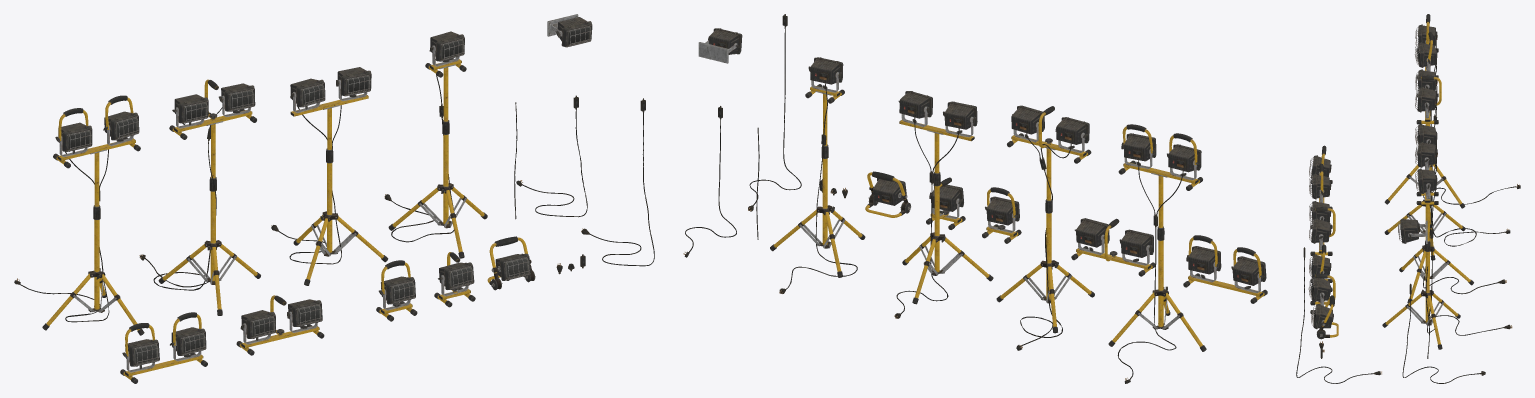
File: flood_lights_1k.glb
3 views of the same model, side by side, from view 1: azimuth 30°, elevation 25°; view 2: azimuth 150°, elevation 25°; view 3: azimuth 270°, elevation 25° (orthographic). The views are drawn at different scales.
Parts seen in each view (by area): view 1: flood_lights_standing_double_c_stand, flood_lights_standing_single_stand, flood_lights_standing_double_b_stand, flood_lights_standing_double_a_stand, flood_lights_wall_light, flood_lights_standing_double_c_light_02, flood_lights_standing_double_b_light_01, flood_lights_standing_single_light, flood_lights_standing_double_a_bar, flood_lights_standing_double_b_light_02, flood_lights_floor_double_b_light_01, flood_lights_standing_double_c_light_01 (+12 smaller); view 2: flood_lights_standing_single_stand, flood_lights_standing_double_c_stand, flood_lights_standing_double_b_stand, flood_lights_standing_double_a_stand, flood_lights_standing_double_a_bar, flood_lights_standing_double_c_light_01, flood_lights_floor_double_b_light_01, flood_lights_standing_double_b_light_01, flood_lights_floor_double_a_light_01, flood_lights_standing_single_light, flood_lights_standing_double_c_light_02, flood_lights_floor_double_b_light_02 (+17 smaller); view 3: flood_lights_standing_single_stand, flood_lights_standing_double_c_stand, flood_lights_standing_double_b_stand, flood_lights_standing_double_b_light_02, flood_lights_standing_double_a_stand, flood_lights_standing_double_c_light_02, flood_lights_floor_single_b_light, flood_lights_standing_single_light, flood_lights_floor_double_b_light_02, flood_lights_wall_light, flood_lights_standing_double_a_light_02, flood_lights_floor_single_light_c (+15 smaller).
Boxes of the visible parts, x1=… form: flood_lights_standing_double_c_stand: x1=293, y1=148, x2=388, y2=285; flood_lights_standing_single_stand: x1=388, y1=120, x2=487, y2=258; flood_lights_standing_double_b_stand: x1=158, y1=177, x2=260, y2=315; flood_lights_standing_double_a_stand: x1=42, y1=205, x2=144, y2=335; flood_lights_wall_light: x1=556, y1=17, x2=592, y2=47; flood_lights_standing_double_c_light_02: x1=336, y1=67, x2=371, y2=96; flood_lights_standing_double_b_light_01: x1=172, y1=94, x2=208, y2=123; flood_lights_standing_single_light: x1=429, y1=31, x2=464, y2=61; flood_lights_standing_double_a_bar: x1=53, y1=137, x2=140, y2=206; flood_lights_standing_double_b_light_02: x1=218, y1=83, x2=255, y2=111; flood_lights_floor_double_b_light_01: x1=240, y1=310, x2=275, y2=338; flood_lights_standing_double_c_light_01: x1=290, y1=78, x2=325, y2=107; flood_lights_standing_single_stand: x1=770, y1=144, x2=865, y2=277; flood_lights_standing_double_c_stand: x1=902, y1=172, x2=993, y2=304; flood_lights_standing_double_b_stand: x1=996, y1=199, x2=1094, y2=333; flood_lights_standing_double_a_stand: x1=1108, y1=226, x2=1206, y2=351; flood_lights_standing_double_a_bar: x1=1118, y1=160, x2=1202, y2=227; flood_lights_standing_double_c_light_01: x1=943, y1=101, x2=977, y2=129; flood_lights_floor_double_b_light_01: x1=1119, y1=229, x2=1153, y2=257; flood_lights_standing_double_b_light_01: x1=1055, y1=117, x2=1089, y2=144; flood_lights_floor_double_a_light_01: x1=1232, y1=256, x2=1266, y2=285; flood_lights_standing_single_light: x1=808, y1=57, x2=843, y2=84; flood_lights_standing_double_c_light_02: x1=898, y1=91, x2=932, y2=118; flood_lights_floor_double_b_light_02: x1=1074, y1=218, x2=1109, y2=247; flood_lights_standing_single_stand: x1=1382, y1=240, x2=1460, y2=349; flood_lights_standing_double_c_stand: x1=1399, y1=204, x2=1473, y2=303; flood_lights_standing_double_b_stand: x1=1384, y1=199, x2=1465, y2=260; flood_lights_standing_double_b_light_02: x1=1415, y1=87, x2=1437, y2=112; flood_lights_standing_double_a_stand: x1=1384, y1=111, x2=1465, y2=208; flood_lights_standing_double_c_light_02: x1=1415, y1=142, x2=1437, y2=167; flood_lights_floor_single_b_light: x1=1308, y1=277, x2=1331, y2=302; flood_lights_standing_single_light: x1=1415, y1=168, x2=1437, y2=193; flood_lights_floor_double_b_light_02: x1=1309, y1=218, x2=1331, y2=243; flood_lights_wall_light: x1=1398, y1=218, x2=1420, y2=243; flood_lights_standing_double_a_light_02: x1=1414, y1=42, x2=1437, y2=67; flood_lights_floor_single_light_c: x1=1311, y1=304, x2=1333, y2=329.
Bounding box in the file's own units: 4.6 × 1.81 × 2.11.
2 materials, 2 textured.
